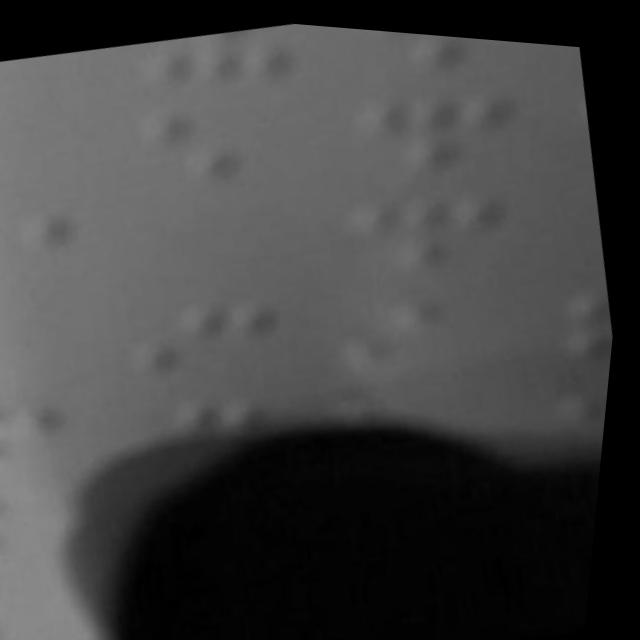braiile: (322, 258, 520, 389), (329, 63, 523, 191), (335, 157, 522, 286), (127, 79, 302, 200), (123, 274, 296, 387), (131, 9, 297, 108), (348, 23, 538, 99), (0, 194, 85, 308), (0, 103, 73, 209)
